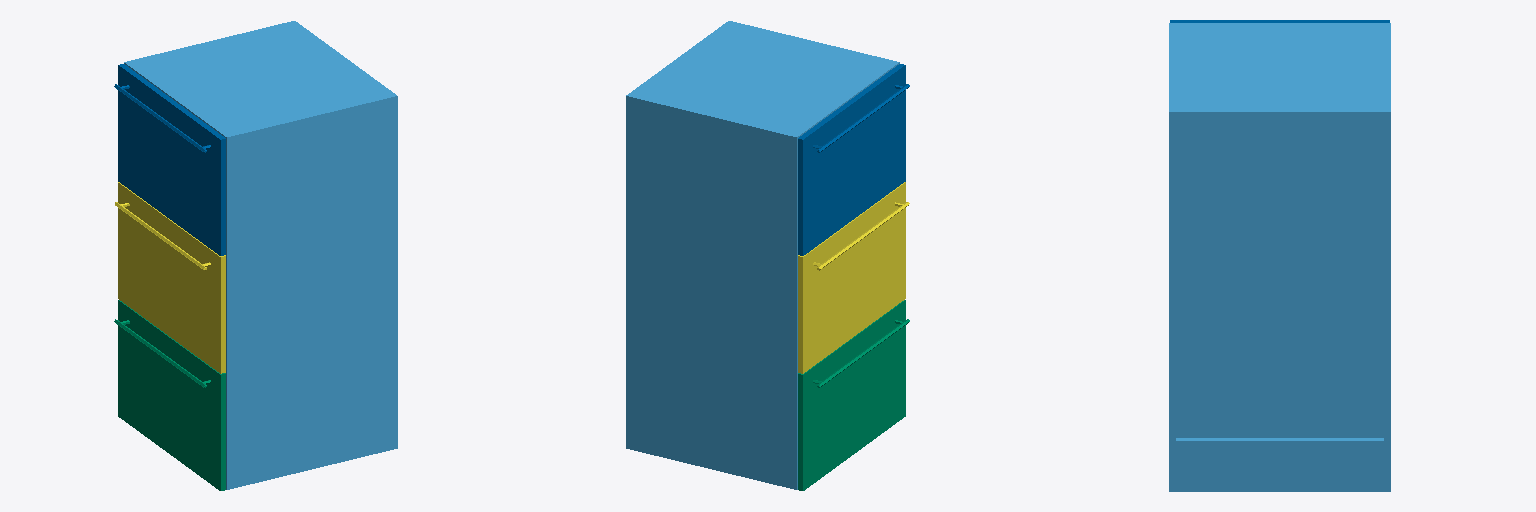
The robot description file, URDF, robot "partnet_68446c00eeed26264c3aee8e9d3a6ffa":
<?xml version="1.0" ?>
<robot name="partnet_68446c00eeed26264c3aee8e9d3a6ffa">
	<link name="base"/>
	<link name="link_0">
		<visual name="vertical_side_panel-32">
			<origin xyz="0 0 0"/>
			<geometry>
				<mesh filename="textured_objs/original-7.obj"/>
			</geometry>
		</visual>
		<visual name="vertical_side_panel-32">
			<origin xyz="0 0 0"/>
			<geometry>
				<mesh filename="textured_objs/original-6.obj"/>
			</geometry>
		</visual>
		<visual name="vertical_side_panel-33">
			<origin xyz="0 0 0"/>
			<geometry>
				<mesh filename="textured_objs/original-4.obj"/>
			</geometry>
		</visual>
		<visual name="vertical_side_panel-33">
			<origin xyz="0 0 0"/>
			<geometry>
				<mesh filename="textured_objs/original-3.obj"/>
			</geometry>
		</visual>
		<visual name="back_panel-34">
			<origin xyz="0 0 0"/>
			<geometry>
				<mesh filename="textured_objs/original-15.obj"/>
			</geometry>
		</visual>
		<visual name="bottom_panel-35">
			<origin xyz="0 0 0"/>
			<geometry>
				<mesh filename="textured_objs/original-10.obj"/>
			</geometry>
		</visual>
		<visual name="bottom_panel-35">
			<origin xyz="0 0 0"/>
			<geometry>
				<mesh filename="textured_objs/original-9.obj"/>
			</geometry>
		</visual>
		<visual name="top_panel-36">
			<origin xyz="0 0 0"/>
			<geometry>
				<mesh filename="textured_objs/original-13.obj"/>
			</geometry>
			<!-- <material name="black">
                <color rgba="0.960784 0.87058824 0.70196078 0.98" />
                <specular rgba="1 1 1 1" /> 添加这行来增加反射光效果 
                <shininess value="50.0" />  添加这行来调整光泽度 
            </material> -->
		</visual>
		<visual name="top_panel-36">
			<origin xyz="0 0 0"/>
			<geometry>
				<mesh filename="textured_objs/original-12.obj"/>
			</geometry>
		</visual>
		<visual name="frame_horizontal_bar-37">
			<origin xyz="0 0 0"/>
			<geometry>
				<mesh filename="textured_objs/original-14.obj"/>
			</geometry>
		</visual>
		<visual name="frame_horizontal_bar-38">
			<origin xyz="0 0 0"/>
			<geometry>
				<mesh filename="textured_objs/original-16.obj"/>
			</geometry>
		</visual>
		<collision>
			<origin xyz="0 0 0"/>
			<geometry>
				<mesh filename="textured_objs/original-7.obj"/>
			</geometry>
		</collision>
		<collision>
			<origin xyz="0 0 0"/>
			<geometry>
				<mesh filename="textured_objs/original-6.obj"/>
			</geometry>
		</collision>
		<collision>
			<origin xyz="0 0 0"/>
			<geometry>
				<mesh filename="textured_objs/original-4.obj"/>
			</geometry>
		</collision>
		<collision>
			<origin xyz="0 0 0"/>
			<geometry>
				<mesh filename="textured_objs/original-3.obj"/>
			</geometry>
		</collision>
		<collision>
			<origin xyz="0 0 0"/>
			<geometry>
				<mesh filename="textured_objs/original-15.obj"/>
			</geometry>
		</collision>
		<collision>
			<origin xyz="0 0 0"/>
			<geometry>
				<mesh filename="textured_objs/original-10.obj"/>
			</geometry>
		</collision>
		<collision>
			<origin xyz="0 0 0"/>
			<geometry>
				<mesh filename="textured_objs/original-9.obj"/>
			</geometry>
		</collision>
		<collision>
			<origin xyz="0 0 0"/>
			<geometry>
				<mesh filename="textured_objs/original-13.obj"/>
			</geometry>
		</collision>
		<collision>
			<origin xyz="0 0 0"/>
			<geometry>
				<mesh filename="textured_objs/original-12.obj"/>
			</geometry>
		</collision>
		<collision>
			<origin xyz="0 0 0"/>
			<geometry>
				<mesh filename="textured_objs/original-14.obj"/>
			</geometry>
		</collision>
		<collision>
			<origin xyz="0 0 0"/>
			<geometry>
				<mesh filename="textured_objs/original-16.obj"/>
			</geometry>
		</collision>
	</link>
	<joint name="joint_0" type="fixed">
		<origin rpy="1.570796326794897 0 -1.570796326794897" xyz="0 0 0"/>
		<child link="link_0"/>
		<parent link="base"/>
	</joint>
	<link name="link_1">
		<visual name="drawer_front-25">
			<origin xyz="0 0 0"/>
			<geometry>
				<mesh filename="textured_objs/original-18.obj"/>
			</geometry>
		</visual>
		<visual name="drawer_front-25">
			<origin xyz="0 0 0"/>
			<geometry>
				<mesh filename="textured_objs/original-25.obj"/>
			</geometry>
		</visual>
		<visual name="drawer_side-26">
			<origin xyz="0 0 0"/>
			<geometry>
				<mesh filename="textured_objs/original-23.obj"/>
			</geometry>
		</visual>
		<visual name="drawer_side-27">
			<origin xyz="0 0 0"/>
			<geometry>
				<mesh filename="textured_objs/original-24.obj"/>
			</geometry>
		</visual>
		<visual name="drawer_back-28">
			<origin xyz="0 0 0"/>
			<geometry>
				<mesh filename="textured_objs/original-26.obj"/>
			</geometry>
		</visual>
		<visual name="drawer_bottom-29">
			<origin xyz="0 0 0"/>
			<geometry>
				<mesh filename="textured_objs/original-21.obj"/>
			</geometry>
		</visual>
		<visual name="drawer_bottom-29">
			<origin xyz="0 0 0"/>
			<geometry>
				<mesh filename="textured_objs/original-22.obj"/>
			</geometry>
		</visual>
		<visual name="handle-24">
			<origin xyz="0 0 0"/>
			<geometry>
				<mesh filename="textured_objs/original-30.obj"/>
			</geometry>
		</visual>
		<visual name="handle-24">
			<origin xyz="0 0 0"/>
			<geometry>
				<mesh filename="textured_objs/original-32.obj"/>
			</geometry>
		</visual>
		<visual name="handle-24">
			<origin xyz="0 0 0"/>
			<geometry>
				<mesh filename="textured_objs/original-31.obj"/>
			</geometry>
		</visual>
		<visual name="drawer_rails-30">
			<origin xyz="0 0 0"/>
			<geometry>
				<mesh filename="textured_objs/original-27.obj"/>
			</geometry>
		</visual>
		<visual name="drawer_rails-31">
			<origin xyz="0 0 0"/>
			<geometry>
				<mesh filename="textured_objs/original-28.obj"/>
			</geometry>
		</visual>
		<collision>
			<origin xyz="0 0 0"/>
			<geometry>
				<mesh filename="textured_objs/original-18.obj"/>
			</geometry>
		</collision>
		<collision>
			<origin xyz="0 0 0"/>
			<geometry>
				<mesh filename="textured_objs/original-25.obj"/>
			</geometry>
		</collision>
		<collision>
			<origin xyz="0 0 0"/>
			<geometry>
				<mesh filename="textured_objs/original-23.obj"/>
			</geometry>
		</collision>
		<collision>
			<origin xyz="0 0 0"/>
			<geometry>
				<mesh filename="textured_objs/original-24.obj"/>
			</geometry>
		</collision>
		<collision>
			<origin xyz="0 0 0"/>
			<geometry>
				<mesh filename="textured_objs/original-26.obj"/>
			</geometry>
		</collision>
		<collision>
			<origin xyz="0 0 0"/>
			<geometry>
				<mesh filename="textured_objs/original-21.obj"/>
			</geometry>
		</collision>
		<collision>
			<origin xyz="0 0 0"/>
			<geometry>
				<mesh filename="textured_objs/original-22.obj"/>
			</geometry>
		</collision>
		<collision>
			<origin xyz="0 0 0"/>
			<geometry>
				<mesh filename="textured_objs/original-30.obj"/>
			</geometry>
		</collision>
		<collision>
			<origin xyz="0 0 0"/>
			<geometry>
				<mesh filename="textured_objs/original-32.obj"/>
			</geometry>
		</collision>
		<collision>
			<origin xyz="0 0 0"/>
			<geometry>
				<mesh filename="textured_objs/original-31.obj"/>
			</geometry>
		</collision>
		<collision>
			<origin xyz="0 0 0"/>
			<geometry>
				<mesh filename="textured_objs/original-27.obj"/>
			</geometry>
		</collision>
		<collision>
			<origin xyz="0 0 0"/>
			<geometry>
				<mesh filename="textured_objs/original-28.obj"/>
			</geometry>
		</collision>
	</link>
	<joint name="joint_1" type="prismatic">
		<origin xyz="0 0 0"/>
		<axis xyz="0 0 1"/>
		<child link="link_1"/>
		<parent link="link_0"/>
		<limit lower="0" upper="0.6600000000000001"/>
	</joint>
	<link name="link_2">
		<visual name="drawer_front-16">
			<origin xyz="0 0 0"/>
			<geometry>
				<mesh filename="textured_objs/original-34.obj"/>
			</geometry>
		</visual>
		<visual name="drawer_front-16">
			<origin xyz="0 0 0"/>
			<geometry>
				<mesh filename="textured_objs/original-41.obj"/>
			</geometry>
		</visual>
		<visual name="drawer_side-17">
			<origin xyz="0 0 0"/>
			<geometry>
				<mesh filename="textured_objs/original-40.obj"/>
			</geometry>
		</visual>
		<visual name="drawer_side-18">
			<origin xyz="0 0 0"/>
			<geometry>
				<mesh filename="textured_objs/original-39.obj"/>
			</geometry>
		</visual>
		<visual name="drawer_back-19">
			<origin xyz="0 0 0"/>
			<geometry>
				<mesh filename="textured_objs/original-42.obj"/>
			</geometry>
		</visual>
		<visual name="drawer_bottom-20">
			<origin xyz="0 0 0"/>
			<geometry>
				<mesh filename="textured_objs/original-37.obj"/>
			</geometry>
		</visual>
		<visual name="drawer_bottom-20">
			<origin xyz="0 0 0"/>
			<geometry>
				<mesh filename="textured_objs/original-38.obj"/>
			</geometry>
		</visual>
		<visual name="handle-15">
			<origin xyz="0 0 0"/>
			<geometry>
				<mesh filename="textured_objs/original-47.obj"/>
			</geometry>
		</visual>
		<visual name="handle-15">
			<origin xyz="0 0 0"/>
			<geometry>
				<mesh filename="textured_objs/original-46.obj"/>
			</geometry>
		</visual>
		<visual name="handle-15">
			<origin xyz="0 0 0"/>
			<geometry>
				<mesh filename="textured_objs/original-48.obj"/>
			</geometry>
		</visual>
		<visual name="drawer_rails-21">
			<origin xyz="0 0 0"/>
			<geometry>
				<mesh filename="textured_objs/original-43.obj"/>
			</geometry>
		</visual>
		<visual name="drawer_rails-22">
			<origin xyz="0 0 0"/>
			<geometry>
				<mesh filename="textured_objs/original-44.obj"/>
			</geometry>
		</visual>
		<collision>
			<origin xyz="0 0 0"/>
			<geometry>
				<mesh filename="textured_objs/original-34.obj"/>
			</geometry>
		</collision>
		<collision>
			<origin xyz="0 0 0"/>
			<geometry>
				<mesh filename="textured_objs/original-41.obj"/>
			</geometry>
		</collision>
		<collision>
			<origin xyz="0 0 0"/>
			<geometry>
				<mesh filename="textured_objs/original-40.obj"/>
			</geometry>
		</collision>
		<collision>
			<origin xyz="0 0 0"/>
			<geometry>
				<mesh filename="textured_objs/original-39.obj"/>
			</geometry>
		</collision>
		<collision>
			<origin xyz="0 0 0"/>
			<geometry>
				<mesh filename="textured_objs/original-42.obj"/>
			</geometry>
		</collision>
		<collision>
			<origin xyz="0 0 0"/>
			<geometry>
				<mesh filename="textured_objs/original-37.obj"/>
			</geometry>
		</collision>
		<collision>
			<origin xyz="0 0 0"/>
			<geometry>
				<mesh filename="textured_objs/original-38.obj"/>
			</geometry>
		</collision>
		<collision>
			<origin xyz="0 0 0"/>
			<geometry>
				<mesh filename="textured_objs/original-47.obj"/>
			</geometry>
		</collision>
		<collision>
			<origin xyz="0 0 0"/>
			<geometry>
				<mesh filename="textured_objs/original-46.obj"/>
			</geometry>
		</collision>
		<collision>
			<origin xyz="0 0 0"/>
			<geometry>
				<mesh filename="textured_objs/original-48.obj"/>
			</geometry>
		</collision>
		<collision>
			<origin xyz="0 0 0"/>
			<geometry>
				<mesh filename="textured_objs/original-43.obj"/>
			</geometry>
		</collision>
		<collision>
			<origin xyz="0 0 0"/>
			<geometry>
				<mesh filename="textured_objs/original-44.obj"/>
			</geometry>
		</collision>
	</link>
	<joint name="joint_2" type="prismatic">
		<origin xyz="0 0 0"/>
		<axis xyz="0 0 1"/>
		<child link="link_2"/>
		<parent link="link_0"/>
		<limit lower="0" upper="0.6600000000000001"/>
	</joint>
	<link name="link_3">
		<visual name="drawer_front-8">
			<origin xyz="0 0 0"/>
			<geometry>
				<mesh filename="textured_objs/original-57.obj"/>
			</geometry>
		</visual>
		<visual name="drawer_front-8">
			<origin xyz="0 0 0"/>
			<geometry>
				<mesh filename="textured_objs/original-50.obj"/>
			</geometry>
		</visual>
		<visual name="drawer_side-9">
			<origin xyz="0 0 0"/>
			<geometry>
				<mesh filename="textured_objs/original-55.obj"/>
			</geometry>
		</visual>
		<visual name="drawer_side-9">
			<origin xyz="0 0 0"/>
			<geometry>
				<mesh filename="textured_objs/original-60.obj"/>
			</geometry>
		</visual>
		<visual name="drawer_side-10">
			<origin xyz="0 0 0"/>
			<geometry>
				<mesh filename="textured_objs/original-56.obj"/>
			</geometry>
		</visual>
		<visual name="drawer_back-11">
			<origin xyz="0 0 0"/>
			<geometry>
				<mesh filename="textured_objs/original-58.obj"/>
			</geometry>
		</visual>
		<visual name="drawer_bottom-12">
			<origin xyz="0 0 0"/>
			<geometry>
				<mesh filename="textured_objs/original-53.obj"/>
			</geometry>
		</visual>
		<visual name="drawer_bottom-12">
			<origin xyz="0 0 0"/>
			<geometry>
				<mesh filename="textured_objs/original-54.obj"/>
			</geometry>
		</visual>
		<visual name="handle-7">
			<origin xyz="0 0 0"/>
			<geometry>
				<mesh filename="textured_objs/original-62.obj"/>
			</geometry>
		</visual>
		<visual name="handle-7">
			<origin xyz="0 0 0"/>
			<geometry>
				<mesh filename="textured_objs/original-64.obj"/>
			</geometry>
		</visual>
		<visual name="handle-7">
			<origin xyz="0 0 0"/>
			<geometry>
				<mesh filename="textured_objs/original-63.obj"/>
			</geometry>
		</visual>
		<visual name="drawer_rails-13">
			<origin xyz="0 0 0"/>
			<geometry>
				<mesh filename="textured_objs/original-59.obj"/>
			</geometry>
		</visual>
		<collision>
			<origin xyz="0 0 0"/>
			<geometry>
				<mesh filename="textured_objs/original-57.obj"/>
			</geometry>
		</collision>
		<collision>
			<origin xyz="0 0 0"/>
			<geometry>
				<mesh filename="textured_objs/original-50.obj"/>
			</geometry>
		</collision>
		<collision>
			<origin xyz="0 0 0"/>
			<geometry>
				<mesh filename="textured_objs/original-55.obj"/>
			</geometry>
		</collision>
		<collision>
			<origin xyz="0 0 0"/>
			<geometry>
				<mesh filename="textured_objs/original-60.obj"/>
			</geometry>
		</collision>
		<collision>
			<origin xyz="0 0 0"/>
			<geometry>
				<mesh filename="textured_objs/original-56.obj"/>
			</geometry>
		</collision>
		<collision>
			<origin xyz="0 0 0"/>
			<geometry>
				<mesh filename="textured_objs/original-58.obj"/>
			</geometry>
		</collision>
		<collision>
			<origin xyz="0 0 0"/>
			<geometry>
				<mesh filename="textured_objs/original-53.obj"/>
			</geometry>
		</collision>
		<collision>
			<origin xyz="0 0 0"/>
			<geometry>
				<mesh filename="textured_objs/original-54.obj"/>
			</geometry>
		</collision>
		<collision>
			<origin xyz="0 0 0"/>
			<geometry>
				<mesh filename="textured_objs/original-62.obj"/>
			</geometry>
		</collision>
		<collision>
			<origin xyz="0 0 0"/>
			<geometry>
				<mesh filename="textured_objs/original-64.obj"/>
			</geometry>
		</collision>
		<collision>
			<origin xyz="0 0 0"/>
			<geometry>
				<mesh filename="textured_objs/original-63.obj"/>
			</geometry>
		</collision>
		<collision>
			<origin xyz="0 0 0"/>
			<geometry>
				<mesh filename="textured_objs/original-59.obj"/>
			</geometry>
		</collision>
	</link>
	<joint name="joint_3" type="prismatic">
		<origin xyz="0 0 0"/>
		<axis xyz="0 0 1"/>
		<child link="link_3"/>
		<parent link="link_0"/>
		<limit lower="0" upper="0.6600000000000001"/>
	</joint>
</robot>

--- Facts derived from the render (not from the file) ---
Views: 3 orthographic renders of the robot side by side, from view 1: azimuth 30°, elevation 25°; view 2: azimuth 150°, elevation 25°; view 3: azimuth 270°, elevation 25°.
Model partnet_68446c00eeed26264c3aee8e9d3a6ffa with 5 links and 4 joints (3 prismatic, 1 fixed), rooted at base, posed every joint at zero.
Links seen in each view (by area): view 1: link_0, link_3, link_1, link_2; view 2: link_0, link_3, link_2, link_1; view 3: link_0, link_3.
Link boxes in pixels (x1,y1,x2,y2): link_0: (124, 21, 397, 489); link_3: (114, 64, 225, 255); link_1: (114, 300, 225, 490); link_2: (115, 182, 225, 373); link_0: (626, 21, 899, 489); link_3: (798, 64, 909, 255); link_2: (798, 182, 909, 373); link_1: (798, 300, 909, 490); link_0: (1169, 23, 1390, 491); link_3: (1170, 20, 1389, 22).
Bounding box of the posed robot: 0.8988 × 0.8543 × 1.61 m (x, y, z).
47 mesh visuals loaded from 47 distinct referenced files (47 OBJ).
